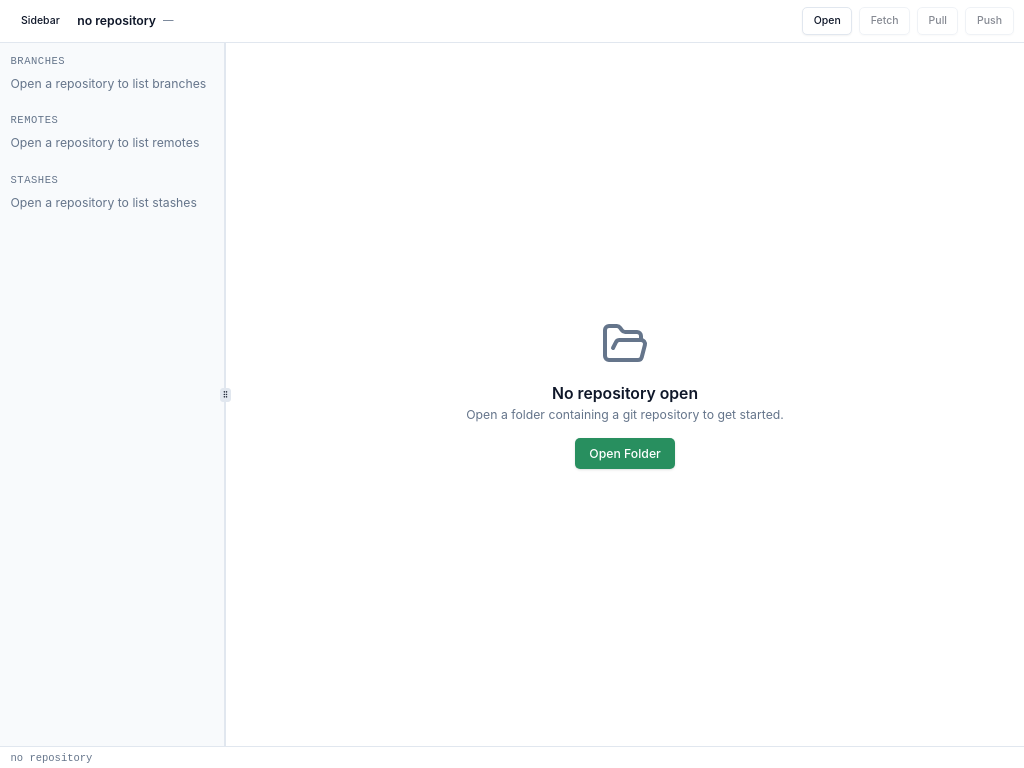
App shell › shows the backend validation hint when the picked folder is not a repo
Step 1. Click the button "Open Folder" → coordinates (625, 454), box [575,438,675,469]
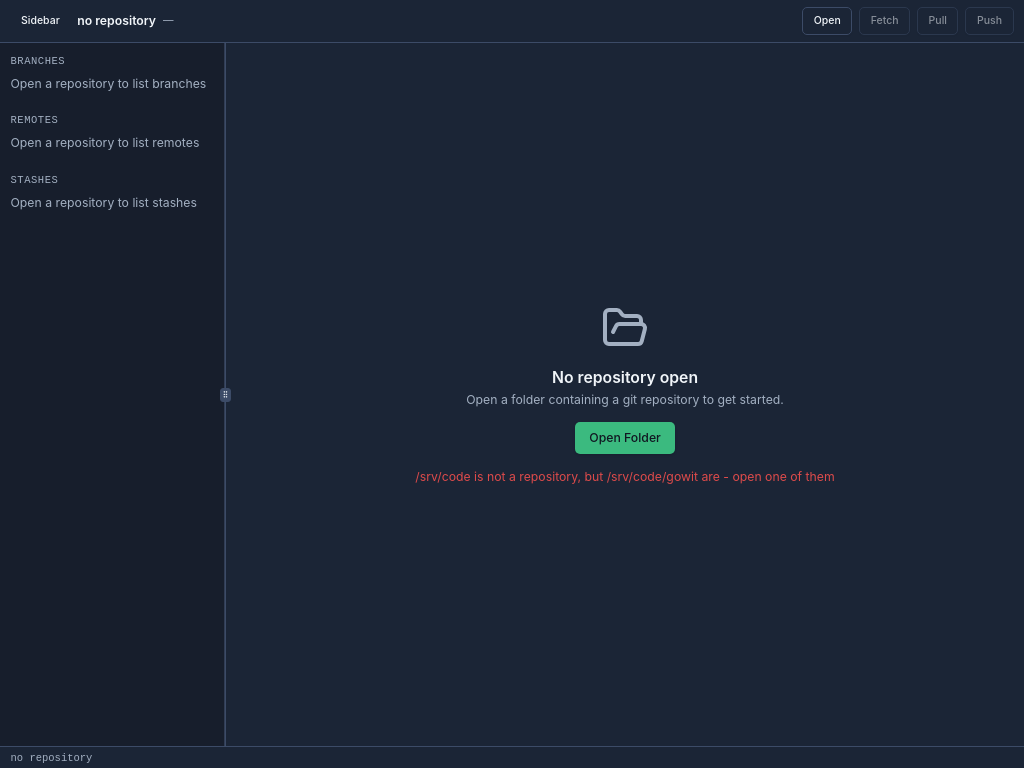
Check: the text with test id "open-error" reads "/srv/code is not a repository, but /srv/code/gowit are - open one of them", box [415,468,835,484]
